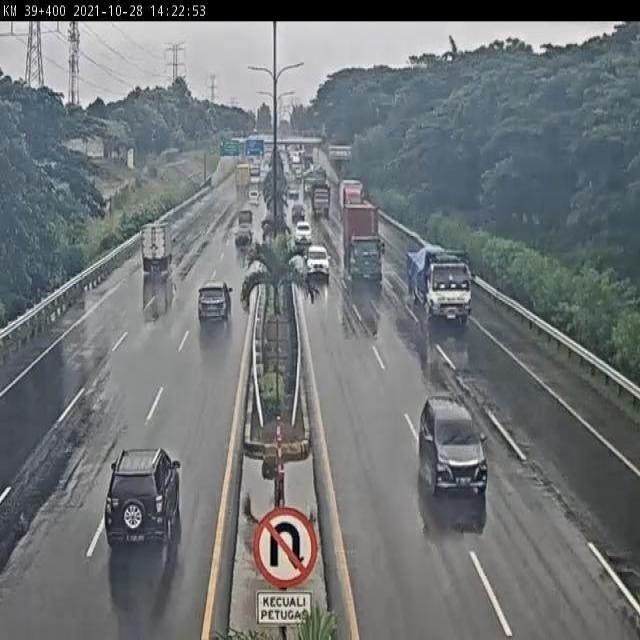Bus: (250, 162, 260, 178)
Car: (418, 396, 488, 508), (103, 448, 183, 546), (197, 280, 233, 324), (305, 244, 330, 279), (294, 220, 312, 245), (291, 204, 306, 224), (288, 186, 298, 200), (294, 166, 302, 182)
Truck: (408, 246, 470, 326), (341, 201, 378, 282), (140, 221, 172, 279), (339, 176, 364, 213), (234, 209, 254, 247), (311, 184, 331, 218), (236, 163, 250, 190)
Van: (248, 190, 260, 206)
